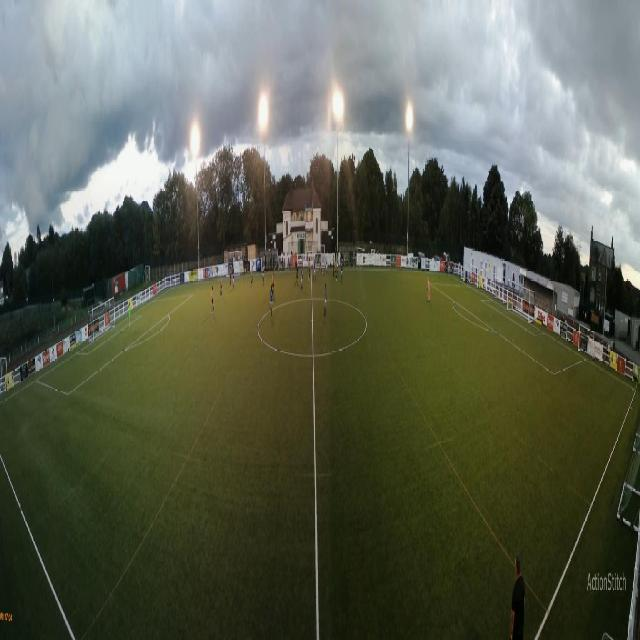ball: (265, 255, 266, 259)
player: (426, 266, 431, 314), (211, 285, 214, 314), (128, 304, 131, 330), (319, 256, 323, 275), (296, 263, 299, 287), (325, 282, 327, 314), (271, 283, 273, 313), (263, 257, 265, 284), (301, 265, 303, 290), (220, 274, 222, 299), (341, 258, 343, 282), (336, 252, 338, 276), (314, 257, 316, 281), (273, 270, 275, 294), (251, 264, 253, 286), (233, 268, 235, 288), (326, 257, 328, 276), (307, 255, 309, 273), (336, 257, 337, 281), (309, 258, 310, 282), (333, 255, 334, 276), (230, 267, 231, 287)
